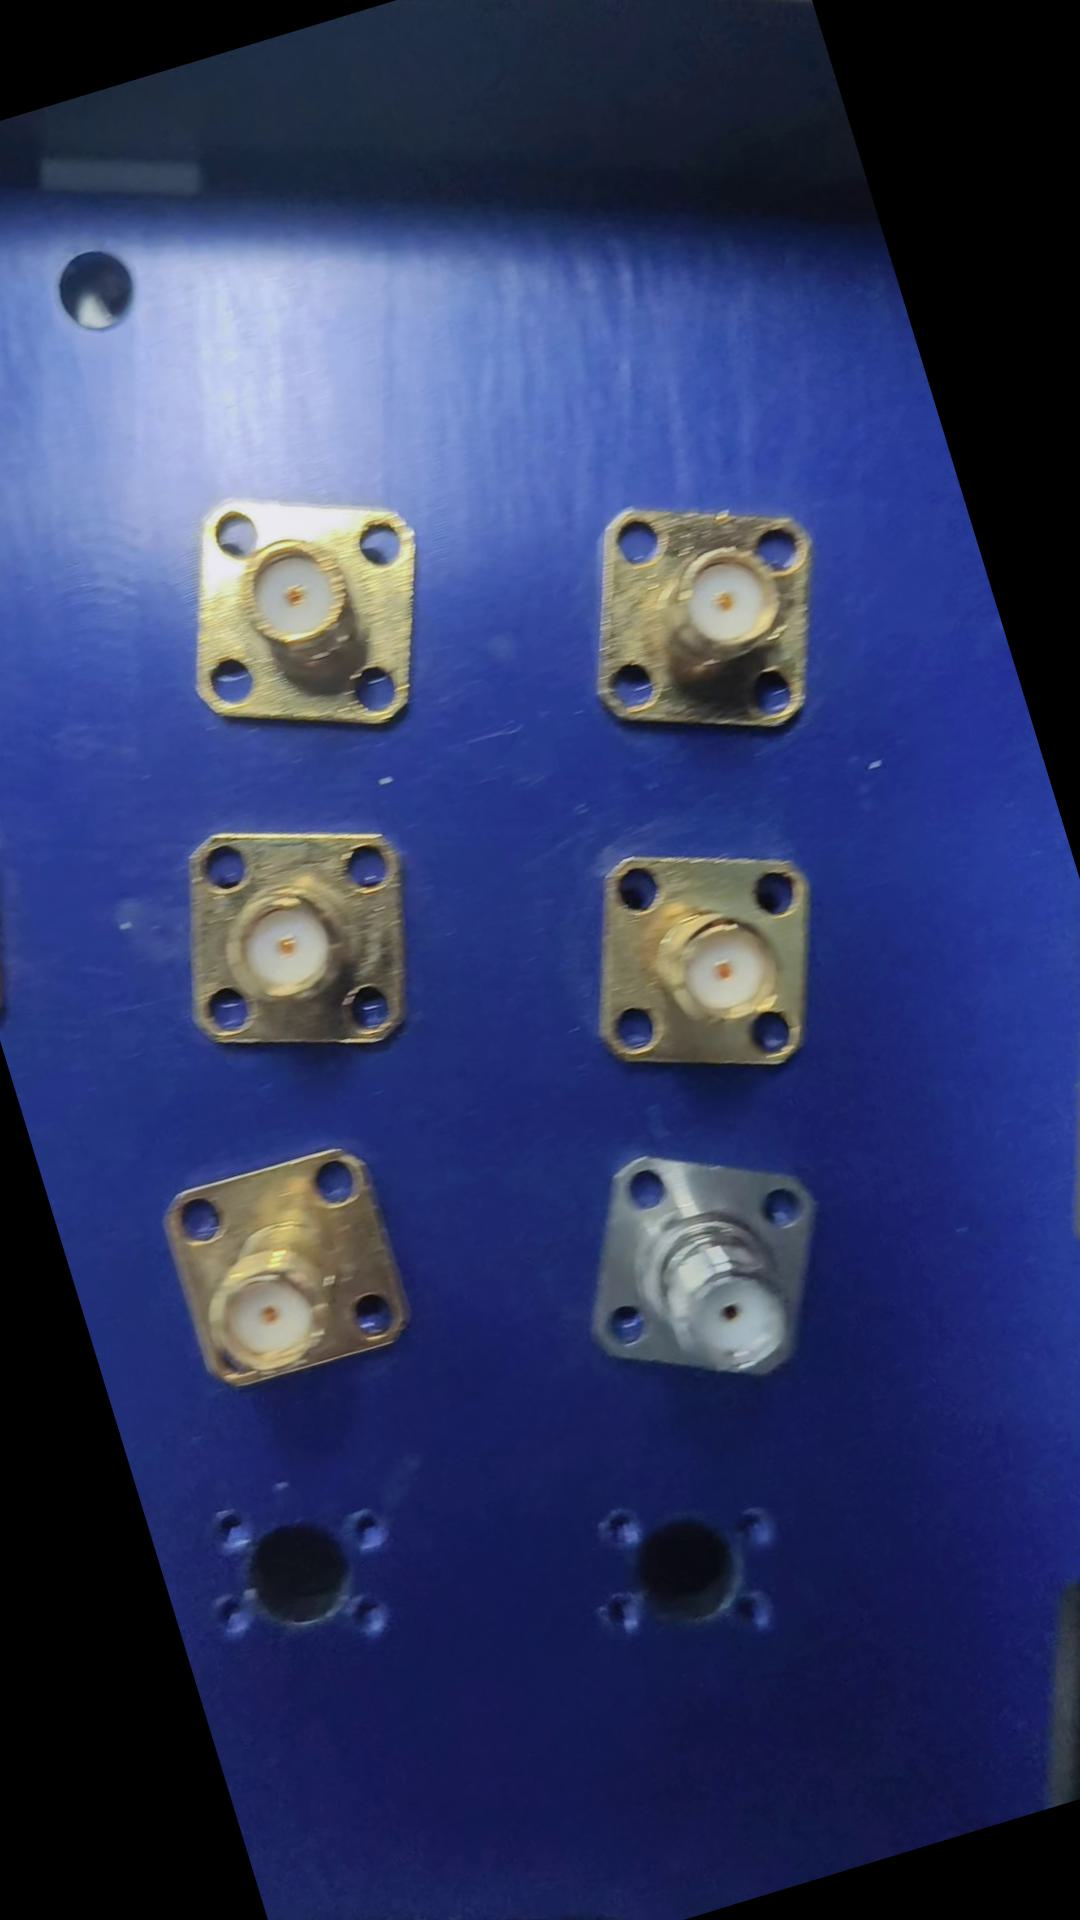SMA: (140, 446, 469, 775), (545, 454, 866, 774), (541, 1113, 857, 1428), (138, 786, 448, 1098), (545, 811, 851, 1116), (144, 1130, 421, 1407)
